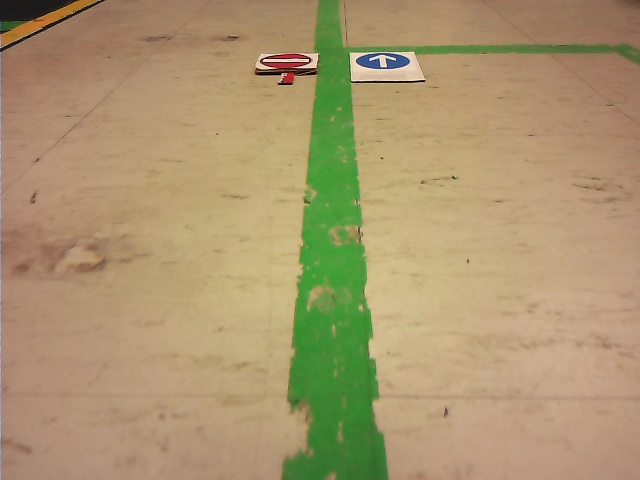GO FORWARD: (356, 53, 410, 69)
NO ENTRY: (260, 54, 312, 68)
